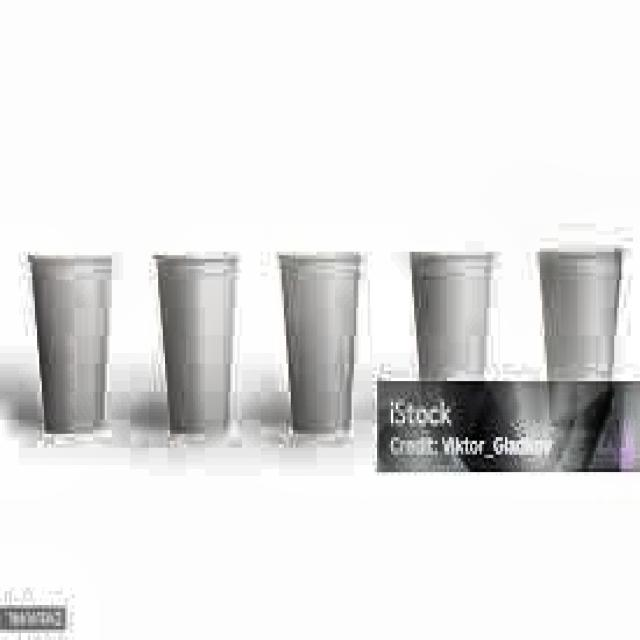Cup: (26, 242, 133, 442), (274, 244, 372, 452), (404, 232, 491, 446), (533, 248, 629, 430), (150, 237, 234, 438)
